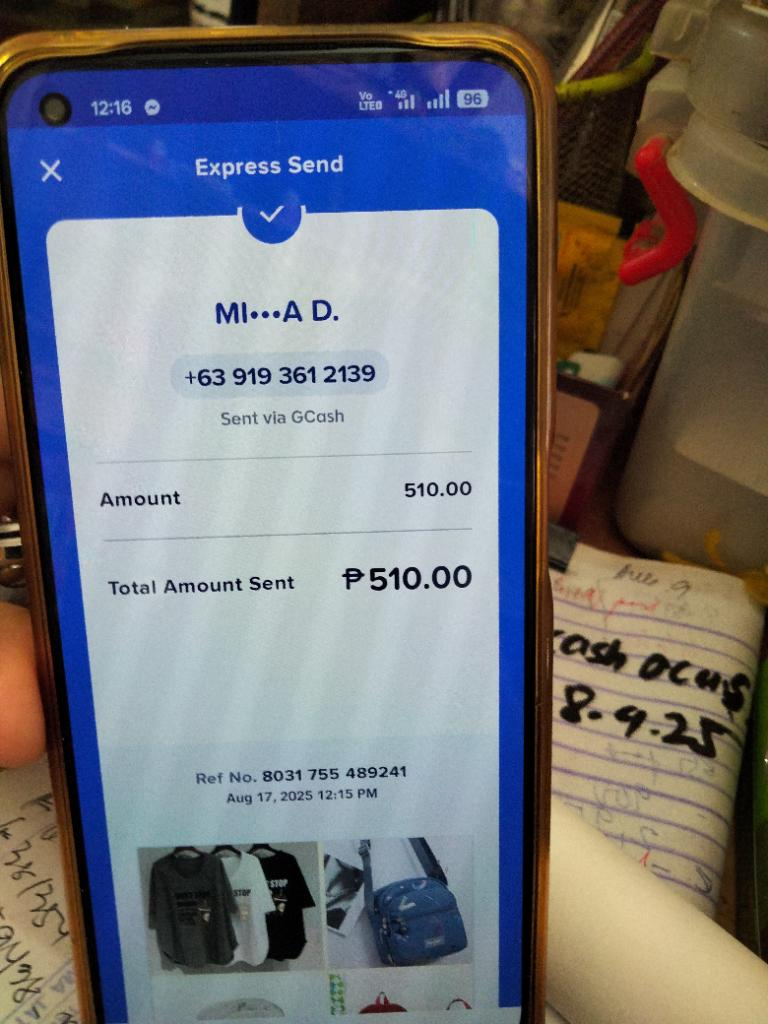Receipt: (5, 116, 529, 1020)
